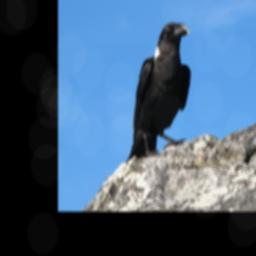Crow: (125, 19, 192, 164)
